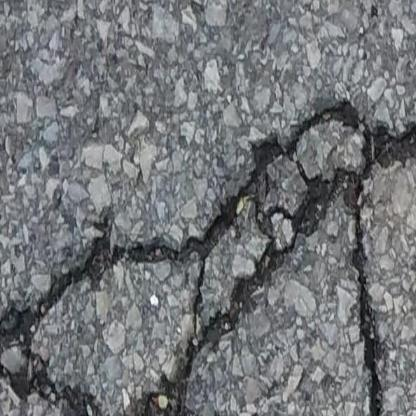Cracks: (0, 96, 416, 416)
